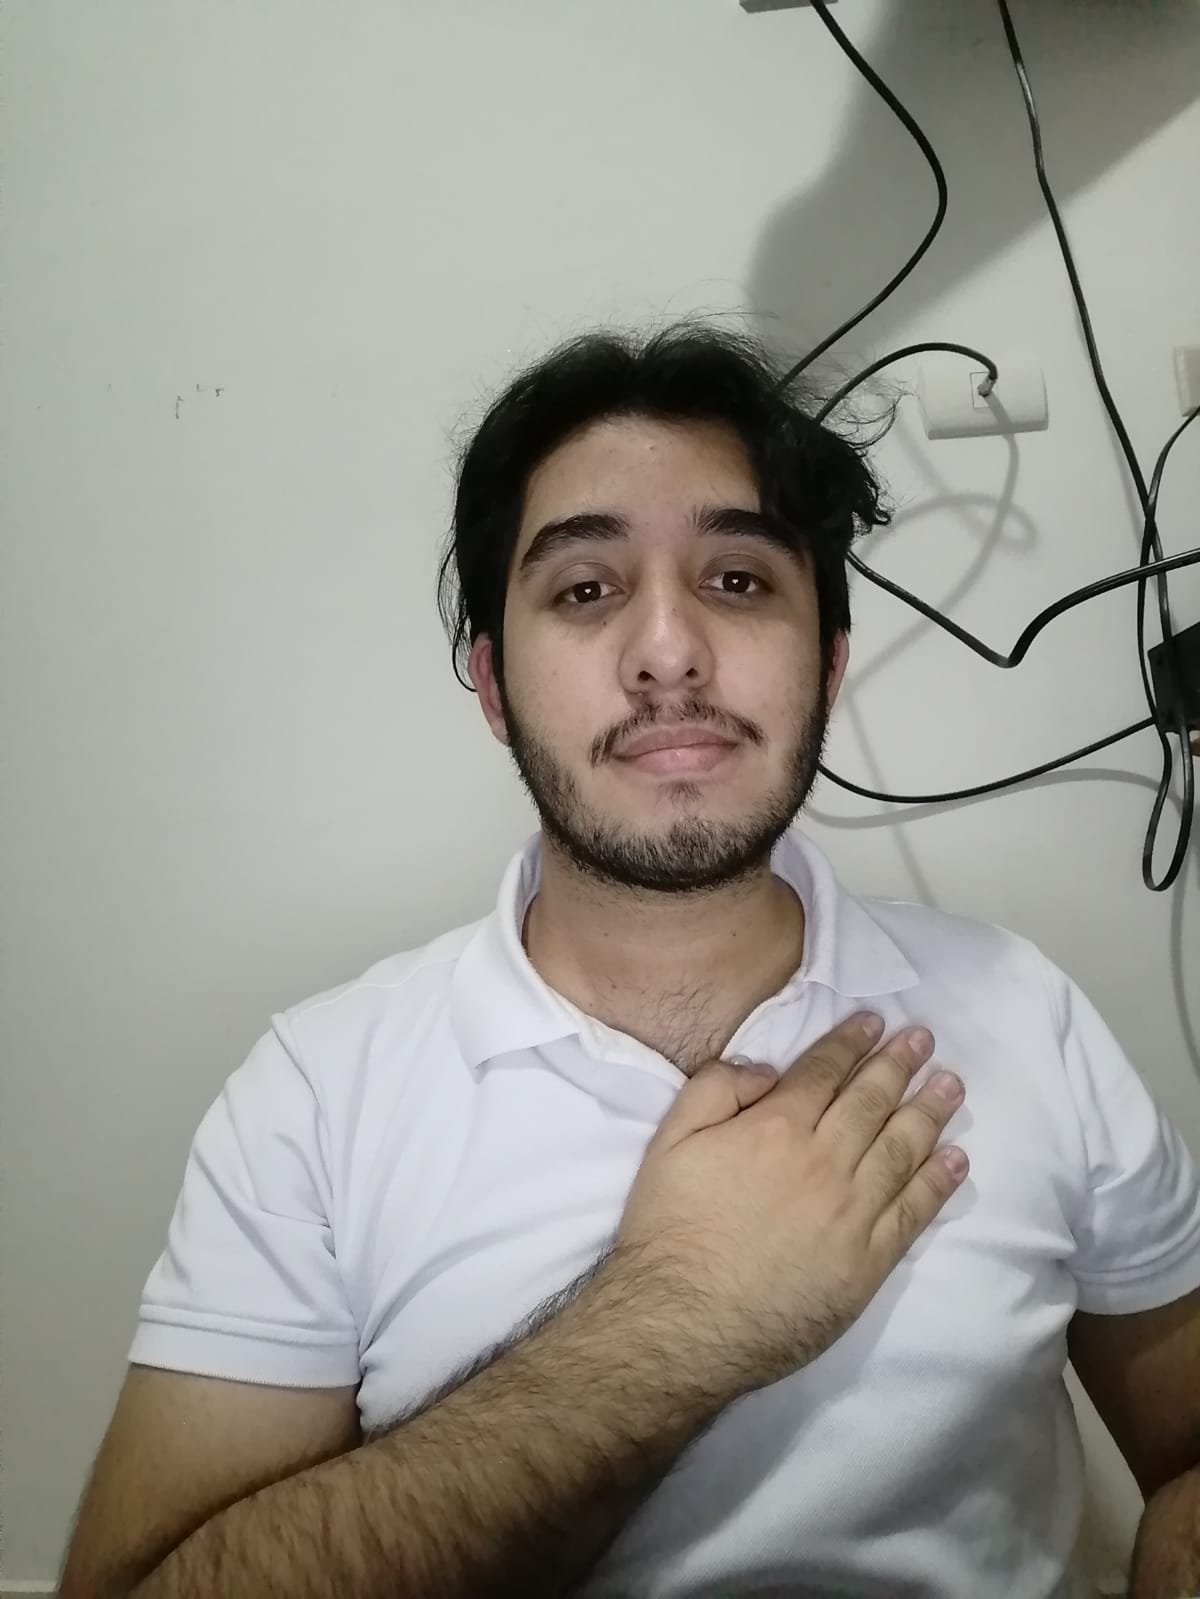Please: (492, 1002, 972, 1510)
